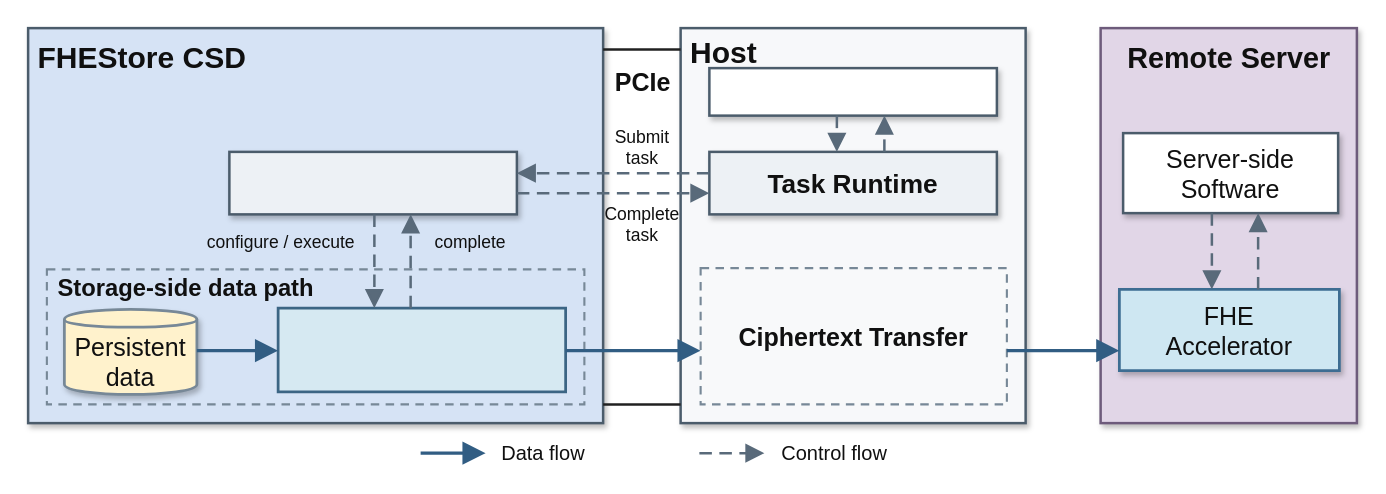
The diagram is 1386 pixels wide and 494 high, and some of its shapes have lost their labels. The shapes that lost their labels are listed below. From the top down, each one's centre as x and y in pixels, then its label:
At point 853,93: "Application".
At point 373,184: "Device Runtime".
At point 421,349: "Operator Pool".
